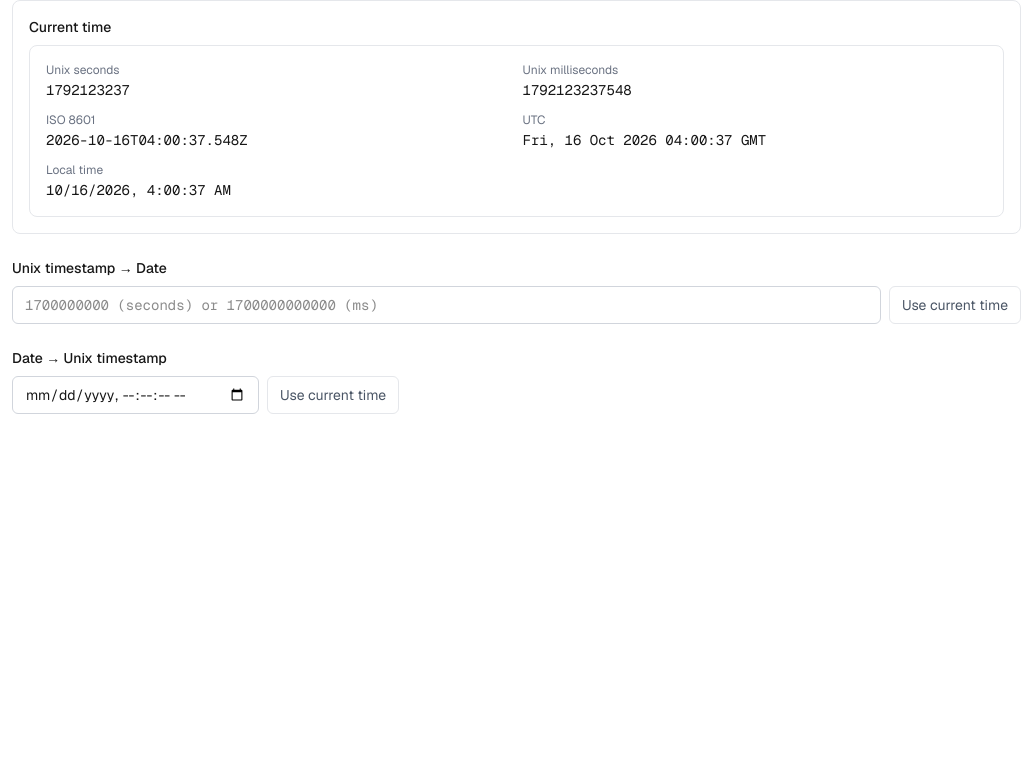
Test case: TimestampConverterTool › converts a date to a unix timestamp
In the field labelled "Date → Unix timestamp": (136, 395) [12,376,259,414], type "2023-11-14T22:13:20"
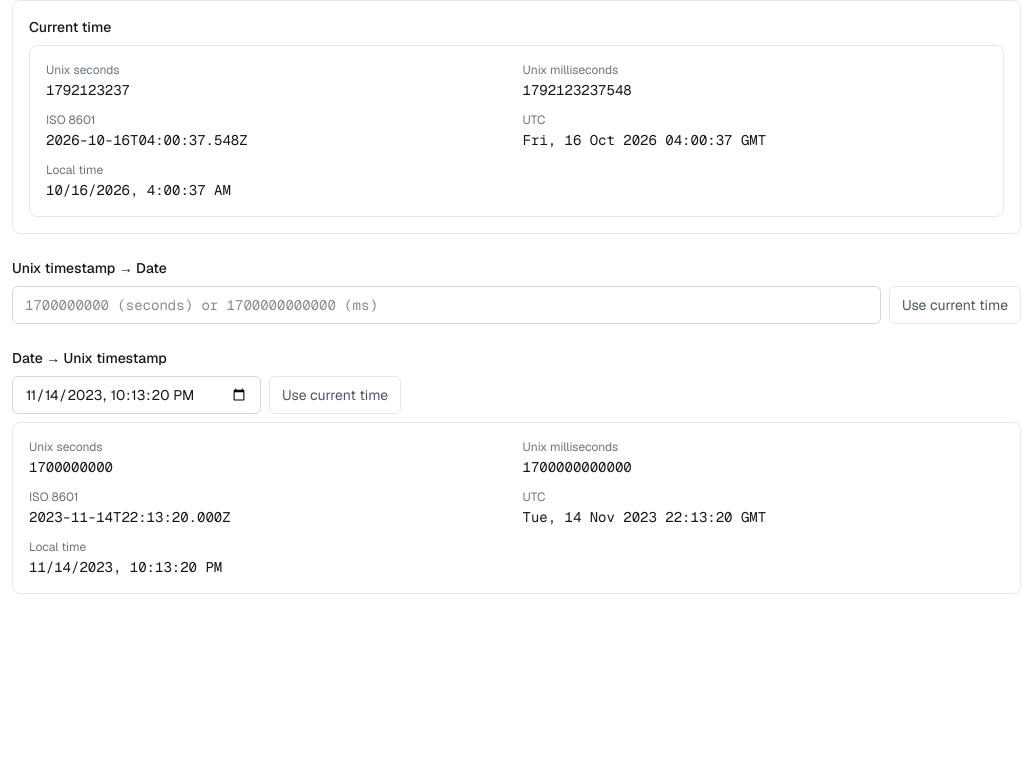
Expected: the text "1700000000" is shown, [29,458,113,476]
